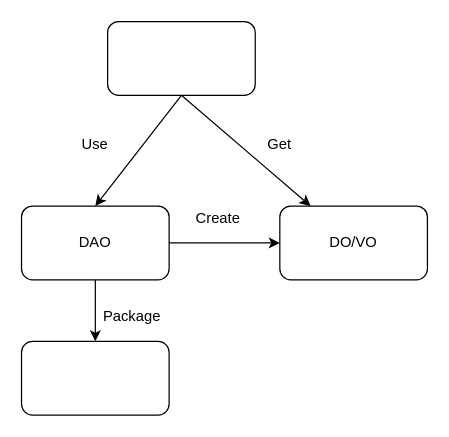
This 449x437 diagram has some shape labels left out. Here are the shapes that lost their labels. From the top down, the centre of each, then its label:
At (180,57): "Service Core".
At (94,377): "Data Source".
